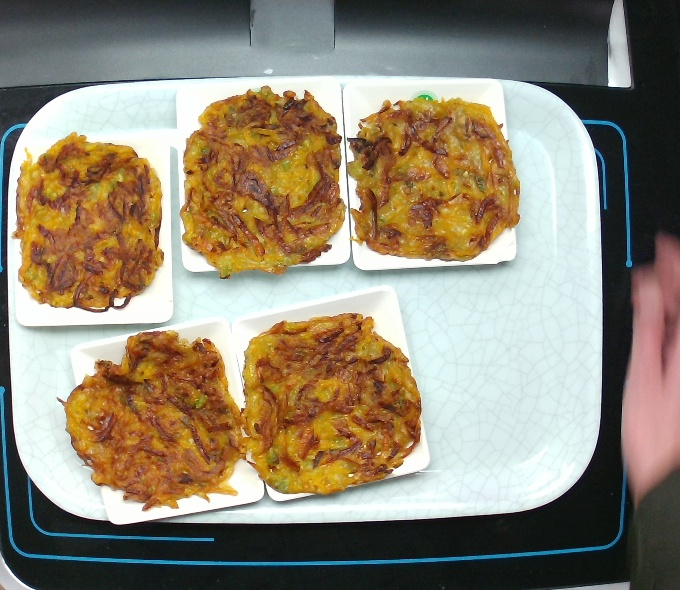wcq-NanGuaBing: (239, 313, 429, 500), (58, 324, 244, 507), (347, 92, 526, 264), (186, 86, 342, 273), (17, 130, 170, 312)
